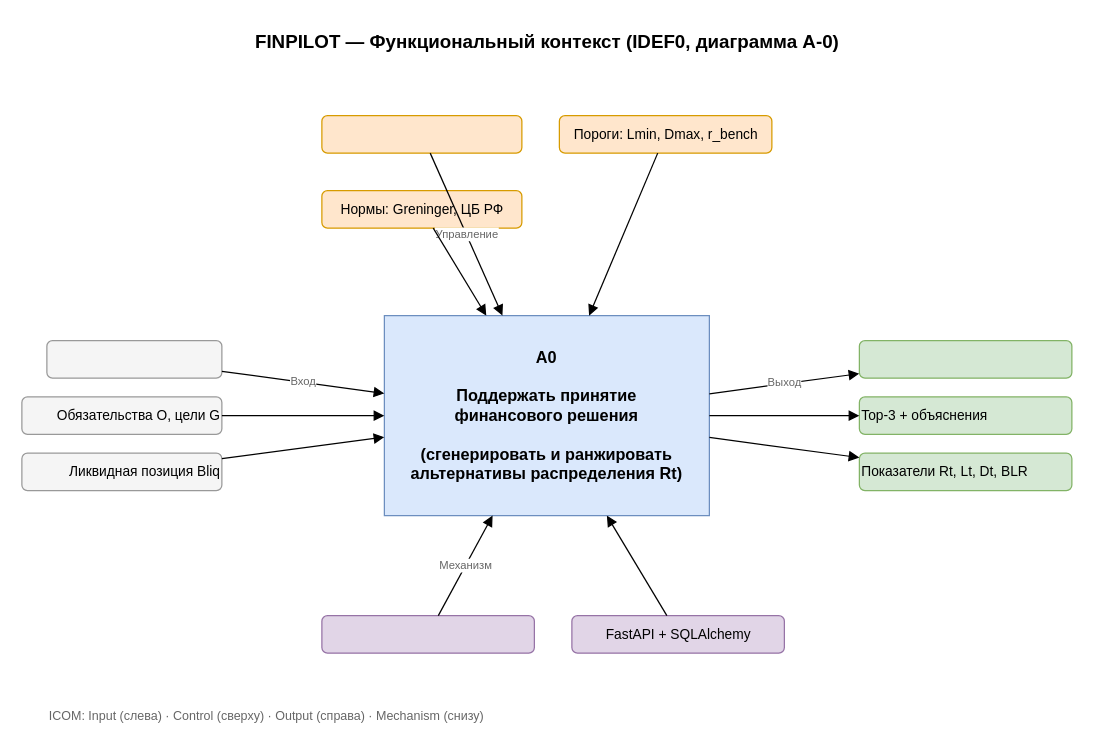
The diagram is 1094 pixels wide and 749 high, and some of its shapes have lost their labels. Here are the shapes that lost their labels. From the top down, the box of each, then its label:
(321, 114, 522, 153): Профиль риска R (веса U)
(46, 339, 222, 378): Транзакции It, Ej
(858, 339, 1072, 378): Оптимальная альтернатива a*
(321, 614, 534, 653): Алгоритм SAW + Avalanche
